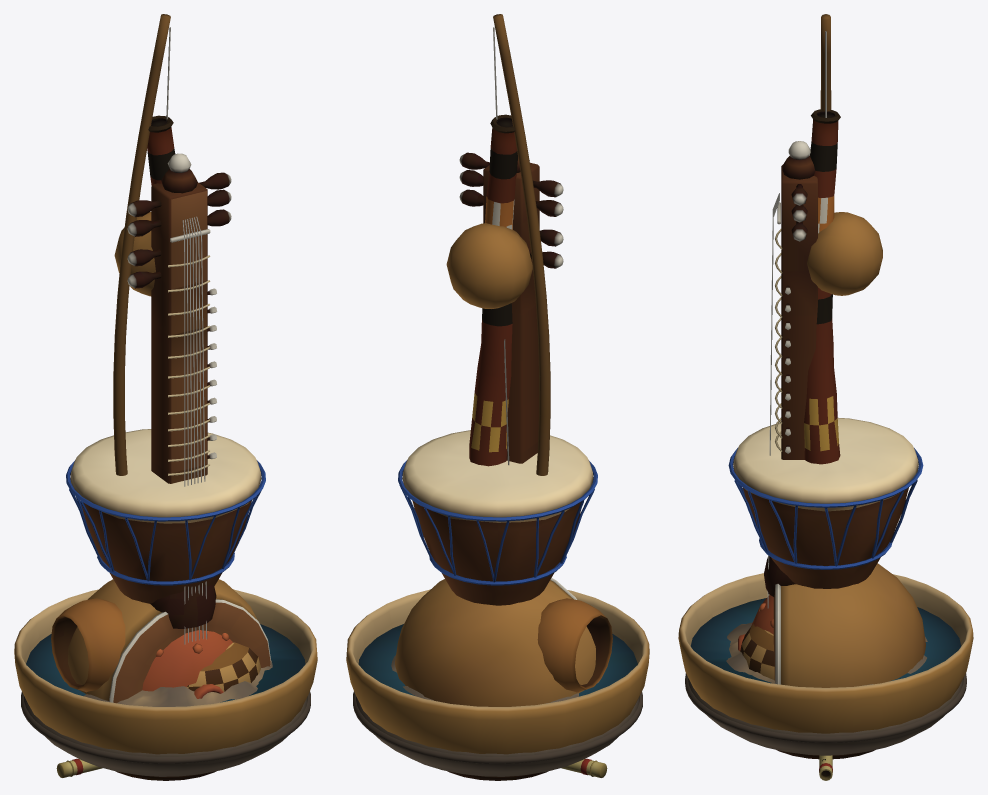
Rendered from instrumentos.glb.
3 renders of one model, left to right at view 1: azimuth 30°, elevation 25°; view 2: azimuth 150°, elevation 25°; view 3: azimuth 270°, elevation 25°, orthographic. The views are drawn at different scales.
Parts seen in each view (by area): view 1: sitar_madeira, tambor-agua_madeira, djembe_couro, berimbau_madeira, djembe_madeira, handpan_metal, sitar_metal, djembe_corda, udu_barro, tambor-agua_agua, didgeridoo_madeira; view 2: sitar_madeira, tambor-agua_madeira, djembe_couro, berimbau_madeira, djembe_madeira, didgeridoo_madeira, handpan_metal, djembe_corda, tambor-agua_agua; view 3: sitar_madeira, tambor-agua_madeira, djembe_couro, djembe_madeira, didgeridoo_madeira, handpan_metal, tambor-agua_agua, djembe_corda, sitar_metal, berimbau_madeira, udu_barro.
Part boxes in pixels (x1=…): sitar_madeira: x1=68, y1=153, x2=271, y2=703; tambor-agua_madeira: x1=14, y1=589, x2=317, y2=754; djembe_couro: x1=70, y1=429, x2=261, y2=523; berimbau_madeira: x1=51, y1=14, x2=170, y2=692; djembe_madeira: x1=81, y1=500, x2=251, y2=780; handpan_metal: x1=21, y1=660, x2=310, y2=776; sitar_metal: x1=168, y1=216, x2=210, y2=644; djembe_corda: x1=66, y1=460, x2=265, y2=585; udu_barro: x1=142, y1=630, x2=232, y2=698; tambor-agua_agua: x1=26, y1=624, x2=305, y2=702; didgeridoo_madeira: x1=147, y1=115, x2=175, y2=185; sitar_madeira: x1=395, y1=152, x2=595, y2=706; tambor-agua_madeira: x1=346, y1=589, x2=649, y2=754; djembe_couro: x1=402, y1=430, x2=593, y2=522; berimbau_madeira: x1=493, y1=14, x2=612, y2=692; djembe_madeira: x1=412, y1=500, x2=580, y2=780; didgeridoo_madeira: x1=469, y1=114, x2=517, y2=466; handpan_metal: x1=353, y1=655, x2=642, y2=776; djembe_corda: x1=398, y1=460, x2=597, y2=585; tambor-agua_agua: x1=358, y1=624, x2=637, y2=696; sitar_madeira: x1=764, y1=141, x2=925, y2=687; tambor-agua_madeira: x1=678, y1=573, x2=973, y2=733; djembe_couro: x1=733, y1=417, x2=918, y2=511; djembe_madeira: x1=743, y1=487, x2=908, y2=759; didgeridoo_madeira: x1=804, y1=109, x2=840, y2=464; handpan_metal: x1=685, y1=622, x2=966, y2=755; tambor-agua_agua: x1=690, y1=598, x2=961, y2=683; djembe_corda: x1=728, y1=448, x2=923, y2=569; sitar_metal: x1=767, y1=193, x2=782, y2=608; berimbau_madeira: x1=820, y1=14, x2=831, y2=111; udu_barro: x1=738, y1=595, x2=773, y2=651.
Bounding box in the file's own units: 0.56 × 1.5 × 0.56.
